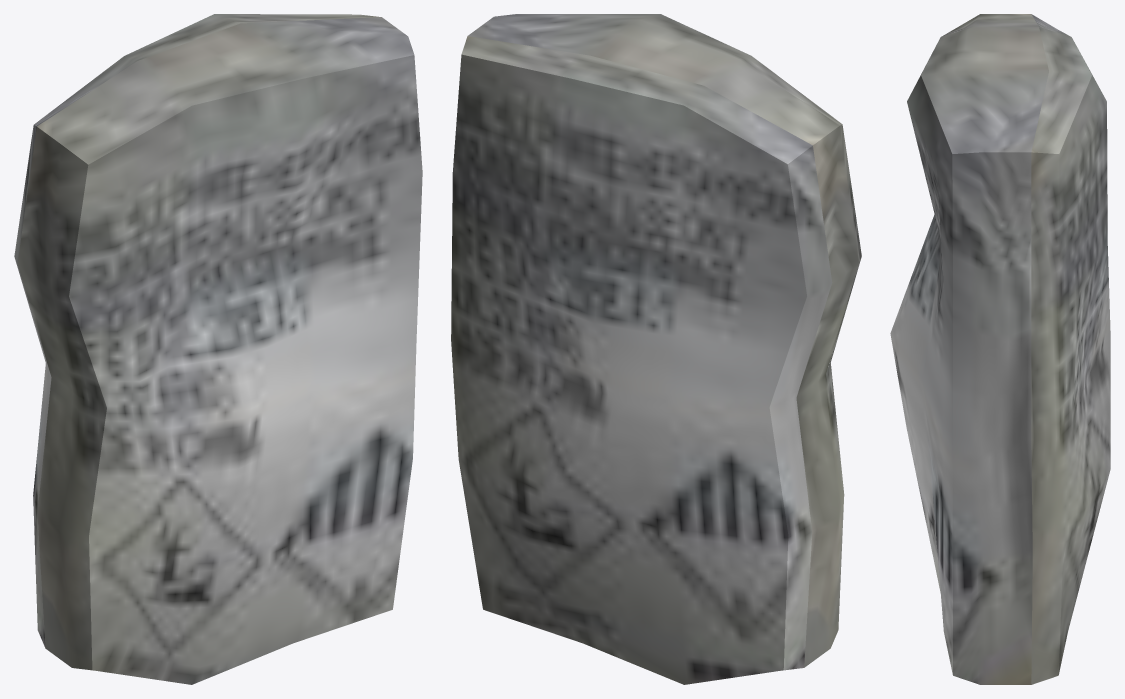
Rendered from titanium_powder.FBX.
3 views of the same model, side by side, from view 1: azimuth 30°, elevation 25°; view 2: azimuth 150°, elevation 25°; view 3: azimuth 270°, elevation 25° (orthographic). The views are drawn at different scales.
Parts seen in each view (by area): view 1: titanium_powder; view 2: titanium_powder; view 3: titanium_powder.
Boxes of the visible parts, x1=… form: titanium_powder: x1=14, y1=14, x2=422, y2=684; titanium_powder: x1=451, y1=14, x2=861, y2=684; titanium_powder: x1=890, y1=14, x2=1110, y2=684.
Bounding box in the file's own units: 70.46 × 109 × 36.98.
